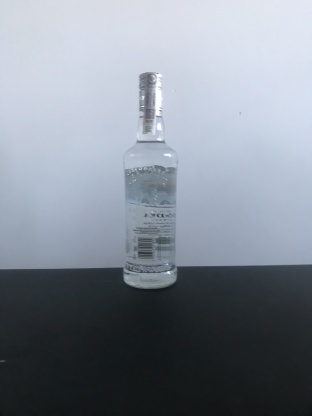nakretka: (136, 69, 165, 114)
